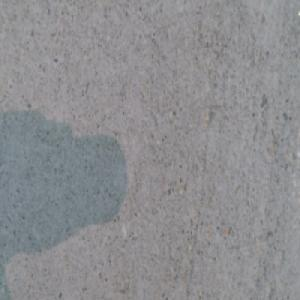Washer: (121, 286, 144, 300)
